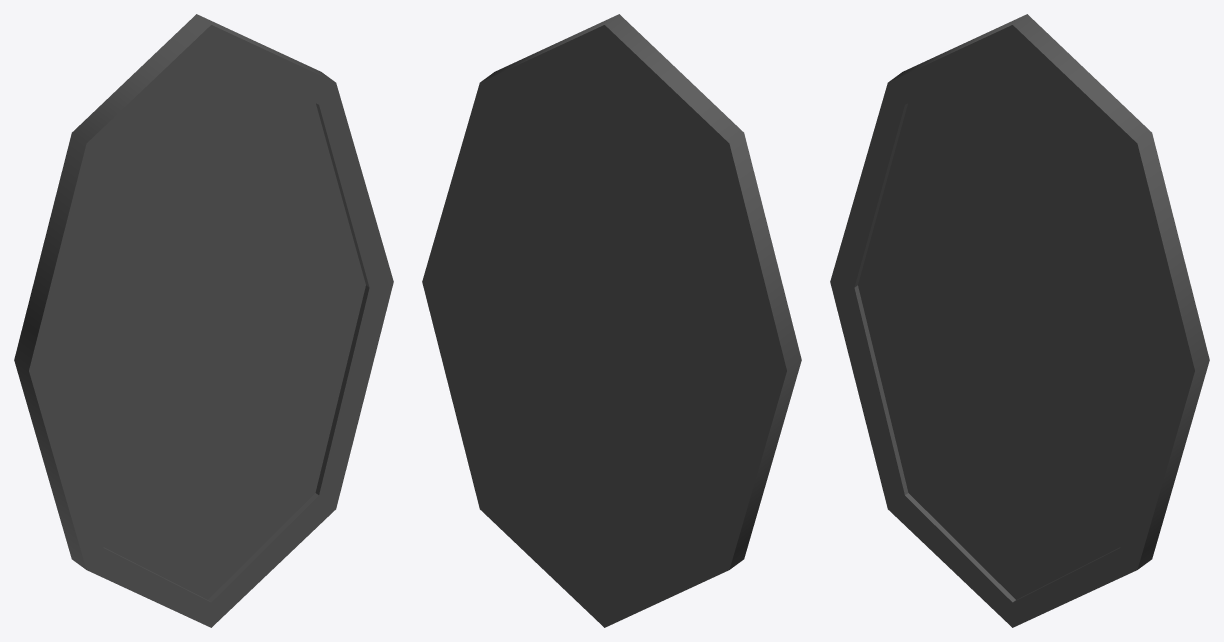
Rendered from Itr_Obj_Frame3_03.FBX.
The picture shows the model from 3 angles, left to right: view 1: azimuth 30°, elevation 25°; view 2: azimuth 150°, elevation 25°; view 3: azimuth 330°, elevation 25°; orthographic projection.
Parts seen in each view (by area): view 1: Itr_Obj_Frame3_03; view 2: Itr_Obj_Frame3_03; view 3: Itr_Obj_Frame3_03.
Boxes of the visible parts, x1=… form: Itr_Obj_Frame3_03: x1=14, y1=14, x2=393, y2=627; Itr_Obj_Frame3_03: x1=422, y1=14, x2=801, y2=627; Itr_Obj_Frame3_03: x1=830, y1=14, x2=1209, y2=627.
Bounding box in the file's own units: 33.22 × 52.47 × 2.32.
